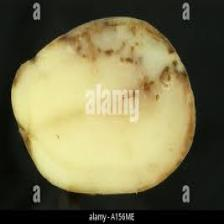Diseased-fungal potato: (10, 16, 201, 199)
